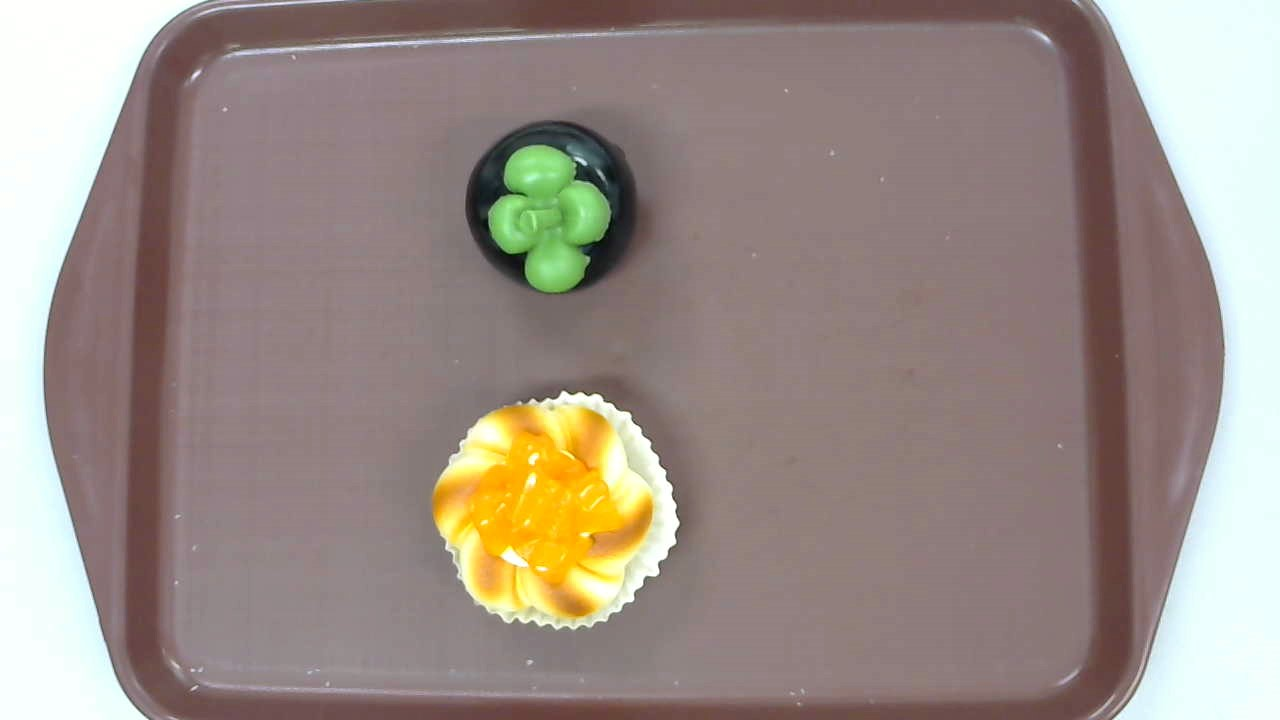mango tart: (432, 390, 681, 633)
mangosteen: (463, 118, 636, 295)
